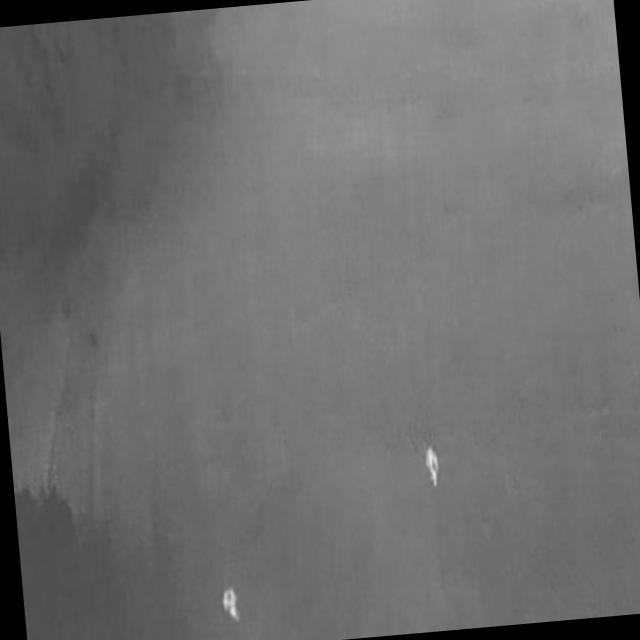person: (220, 587, 242, 627), (424, 447, 441, 491)
